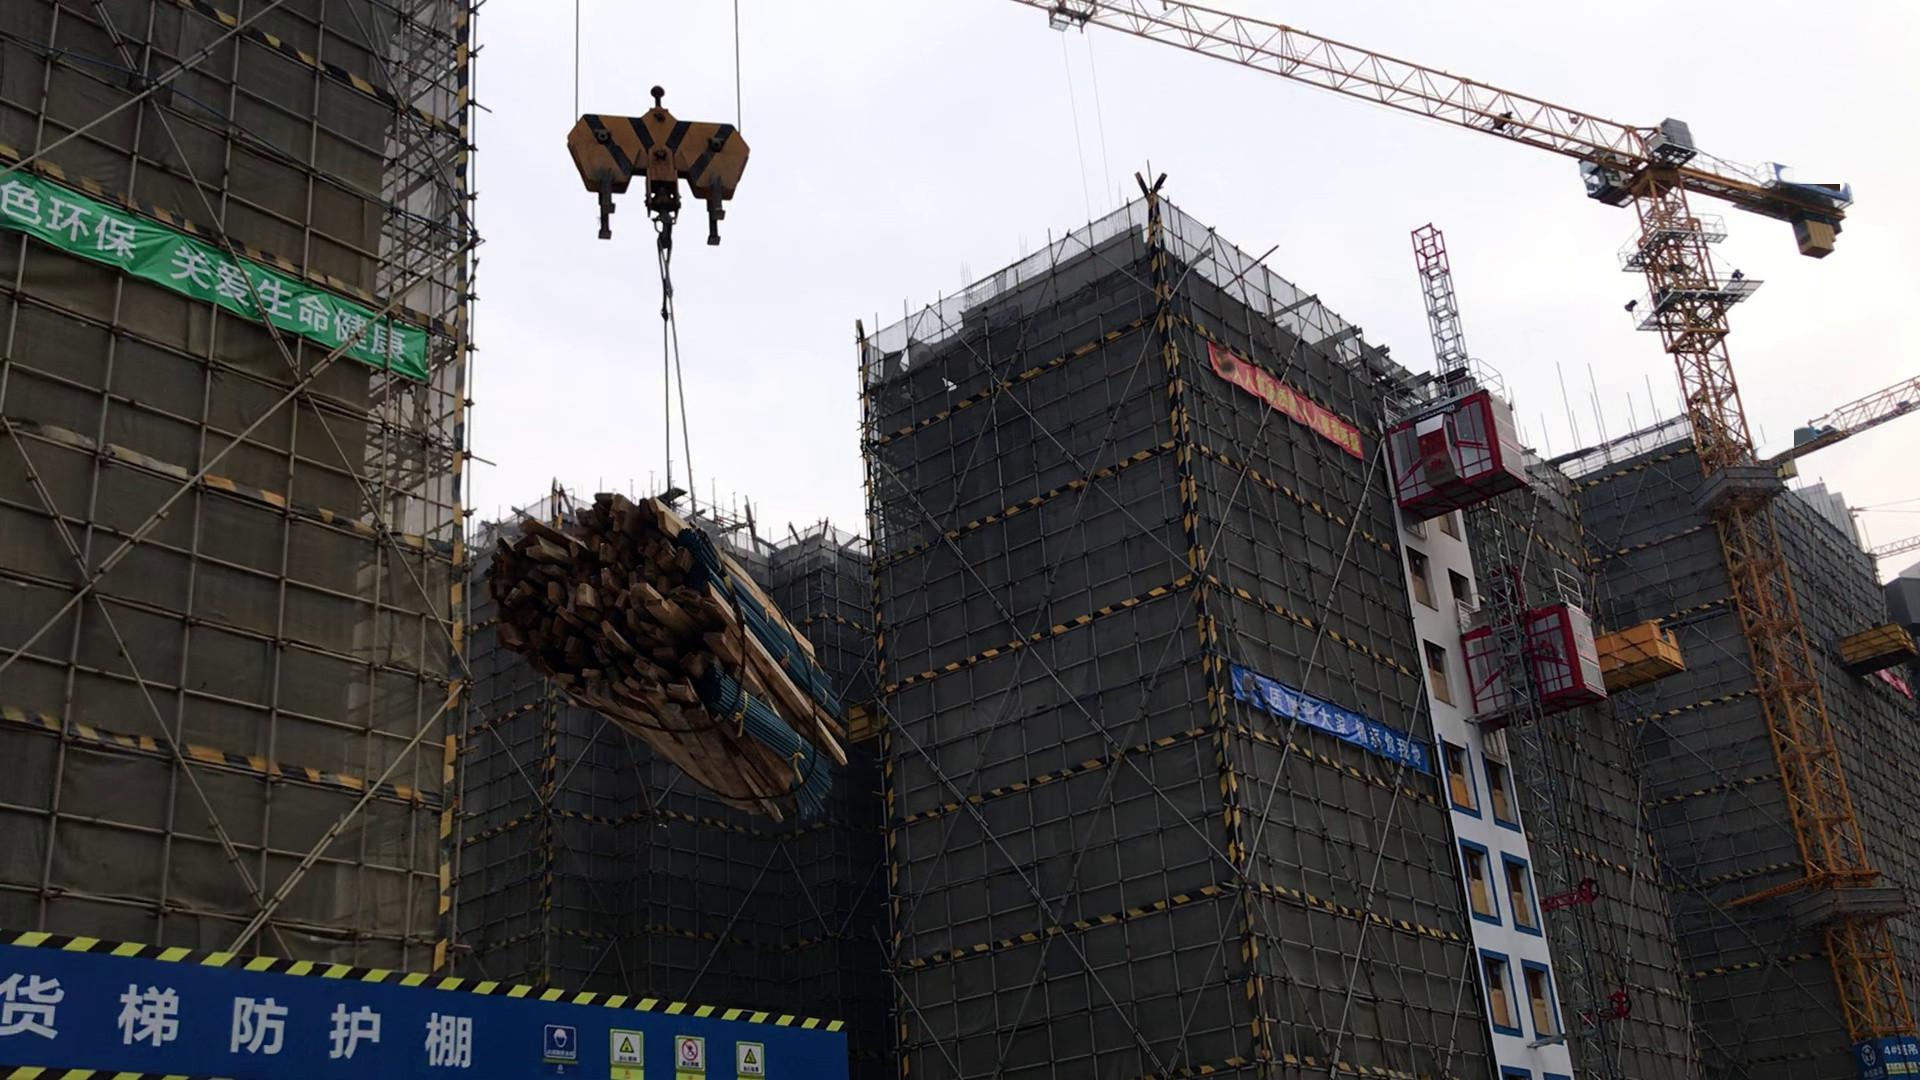hook: (527, 61, 771, 282)
slogan: (1, 909, 924, 1080), (3, 161, 440, 392), (1218, 669, 1433, 785), (1191, 332, 1367, 469), (1871, 1027, 1920, 1080), (1869, 661, 1917, 705)
wood: (476, 484, 868, 858)
